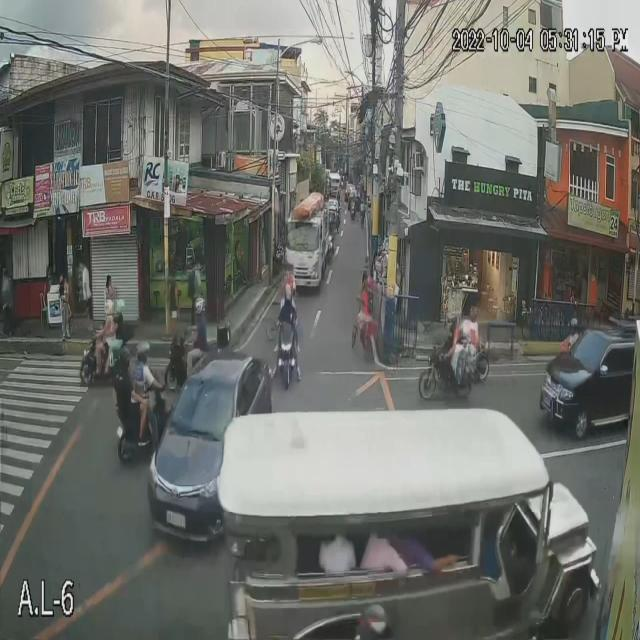Full-Faced: (461, 303, 478, 333), (279, 280, 293, 312), (116, 345, 132, 371), (190, 295, 205, 320), (444, 310, 455, 334), (567, 312, 577, 337), (138, 341, 151, 359), (102, 294, 112, 317), (114, 296, 124, 315)
